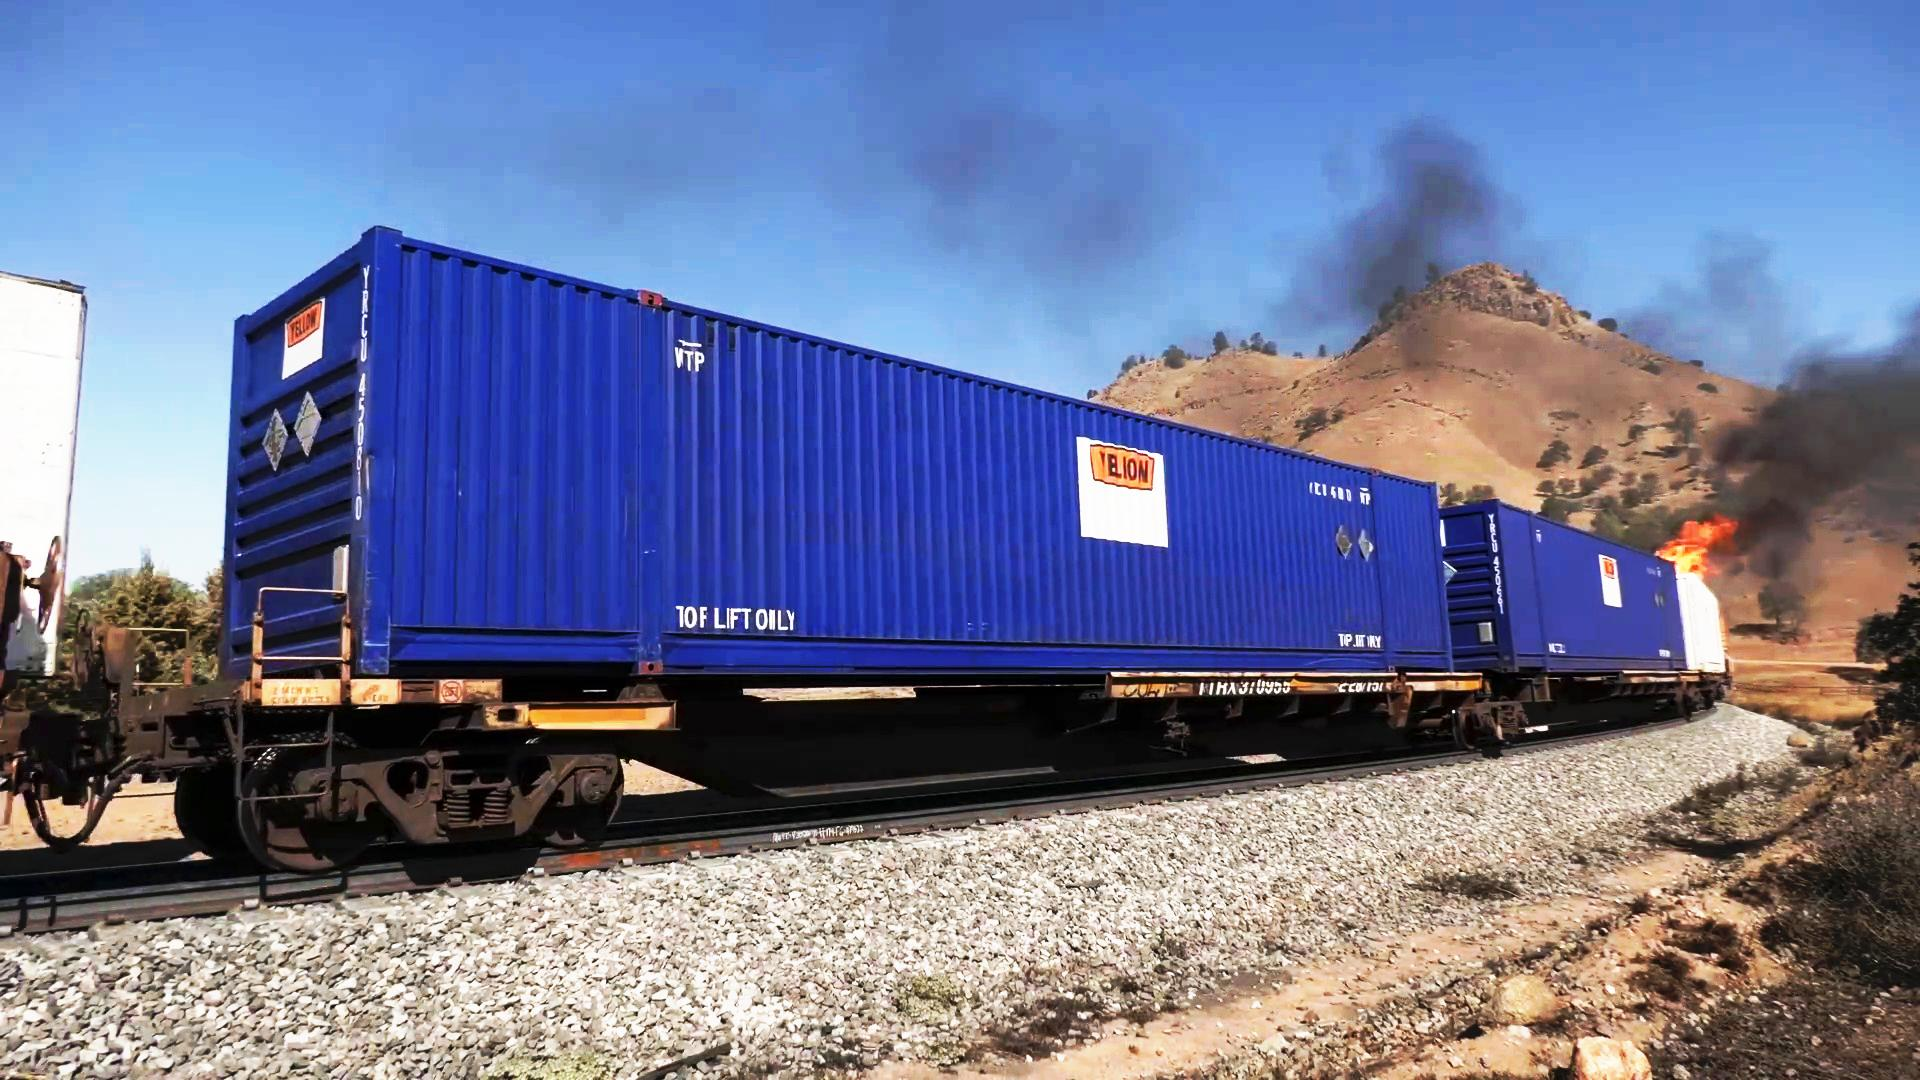smoke: (1635, 508, 1726, 596)
